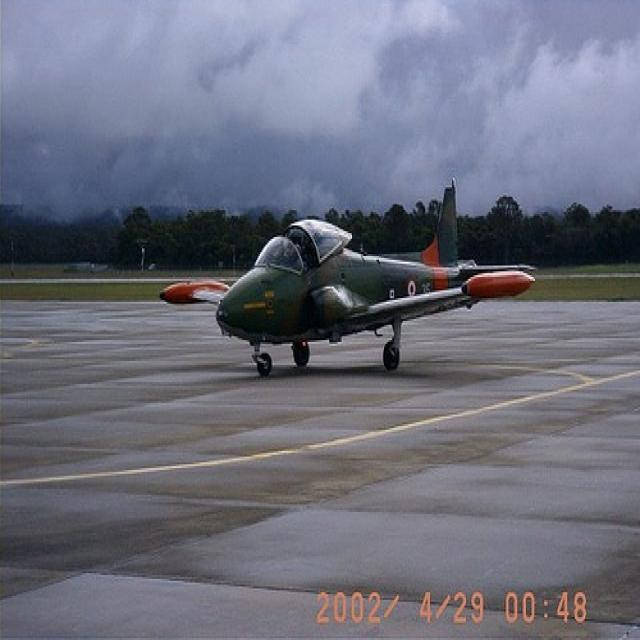aeroplane: (159, 172, 536, 380)
